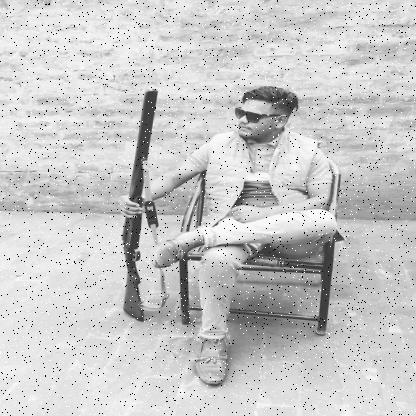rifle: (119, 88, 160, 324)
